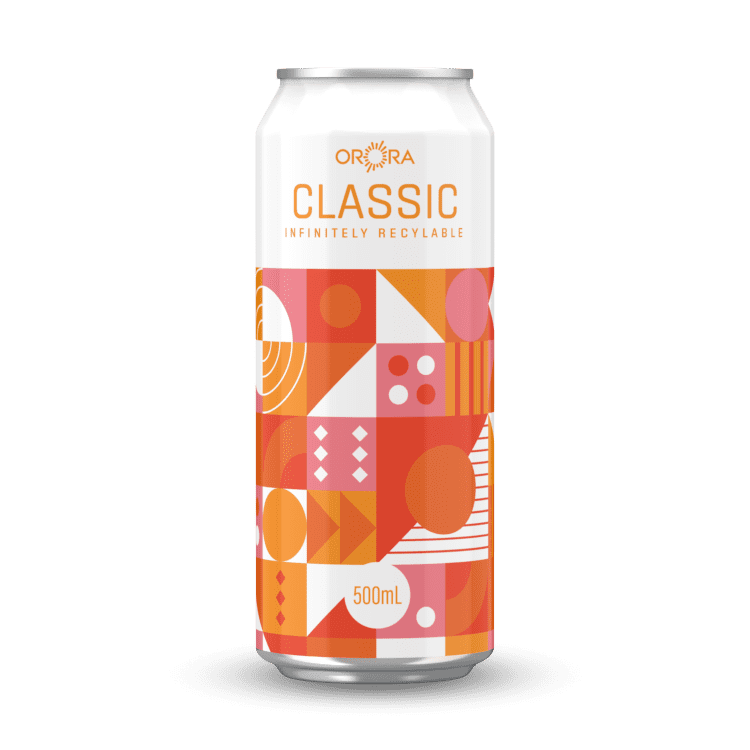can: (238, 50, 514, 695)
